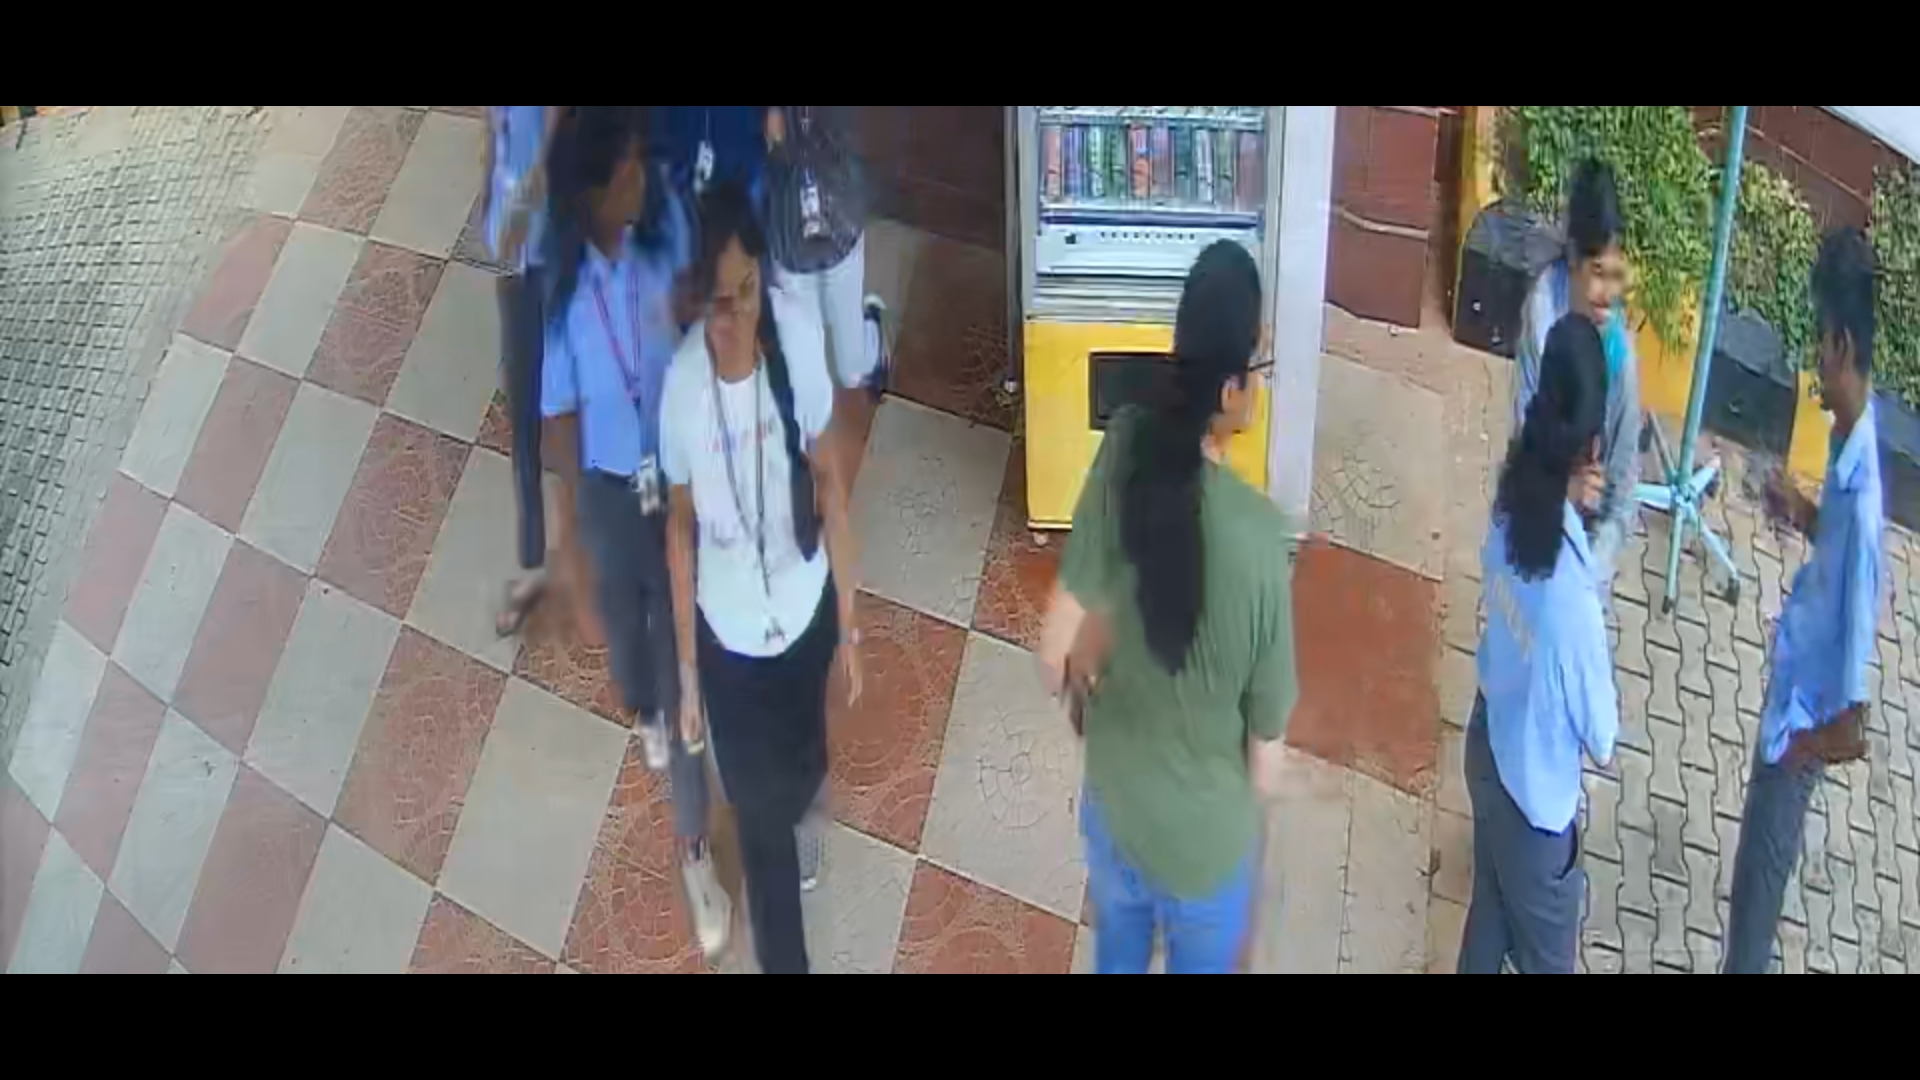not intruder: (651, 204, 861, 1010), (524, 102, 705, 760)
